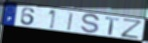1: (48, 9, 58, 30)
6: (20, 8, 36, 27)
I: (67, 11, 76, 32)
S: (79, 13, 101, 35)
T: (105, 17, 120, 37)
Z: (120, 17, 145, 40)
